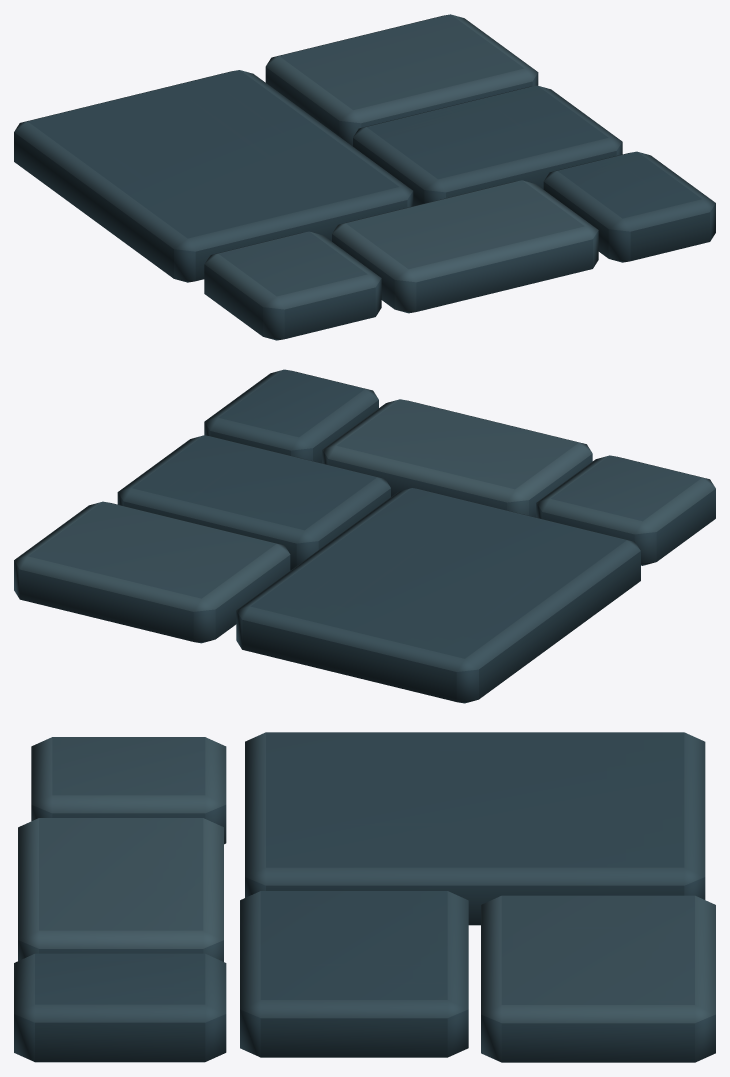
File: stone_path_3.fbx
The picture shows the model from 3 angles, top to bottom: view 1: azimuth 30°, elevation 25°; view 2: azimuth 150°, elevation 25°; view 3: azimuth 270°, elevation 25°; orthographic projection. The views are drawn at different scales.
Visible parts, largest first — view 1: stone_path_3; view 2: stone_path_3; view 3: stone_path_3.
Part boxes in pixels (bbox=[...]): stone_path_3: bbox=[14, 14, 715, 340]; stone_path_3: bbox=[14, 369, 715, 703]; stone_path_3: bbox=[14, 732, 715, 1062].
Size of the model in its own units: 197 by 18.28 by 202.
